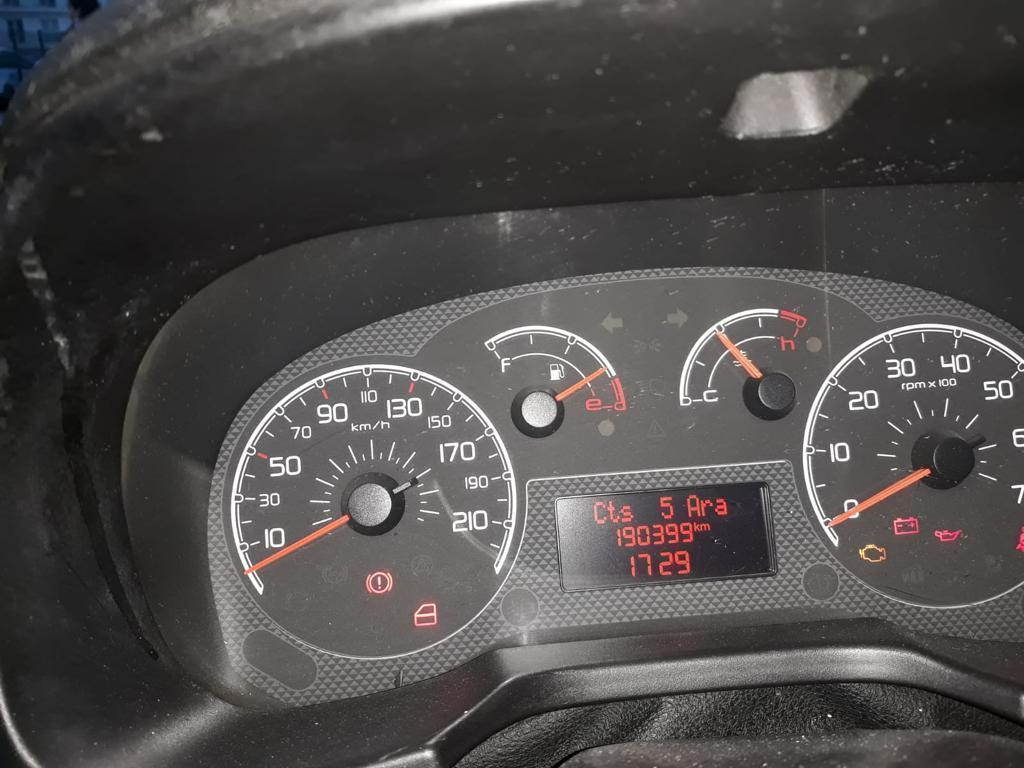0: (636, 524, 651, 546)
1: (624, 553, 638, 579), (613, 527, 622, 549)
2: (657, 550, 672, 577)
3: (650, 522, 664, 546)
5: (658, 494, 675, 521)
7: (637, 552, 653, 577)
9: (674, 547, 692, 575), (664, 522, 679, 544), (679, 521, 693, 543), (622, 525, 635, 548)
X: (591, 499, 607, 526), (684, 492, 700, 519), (606, 498, 620, 525), (713, 496, 730, 517), (620, 502, 634, 524), (700, 497, 712, 517), (699, 521, 713, 533), (692, 518, 700, 532)
odometer: (553, 479, 779, 594)
